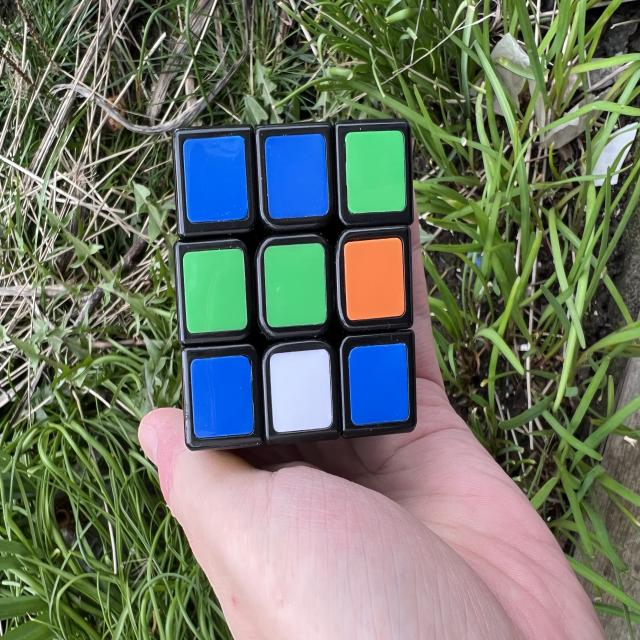blue: (182, 135, 249, 224), (188, 354, 256, 439), (264, 133, 330, 220), (348, 343, 410, 425)
center: (262, 242, 328, 328)
green: (262, 242, 328, 328), (182, 247, 247, 334), (344, 130, 407, 214)
orange: (342, 237, 407, 321)
white: (267, 348, 335, 433)
